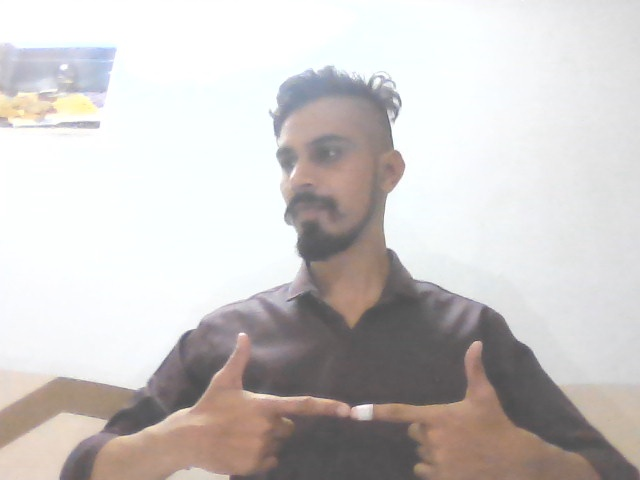Hurt: (190, 330, 509, 478)
